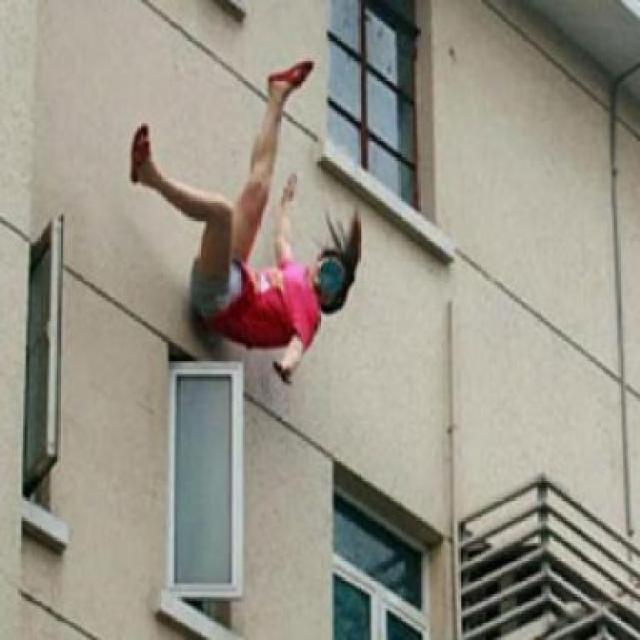fall: (128, 52, 364, 390)
